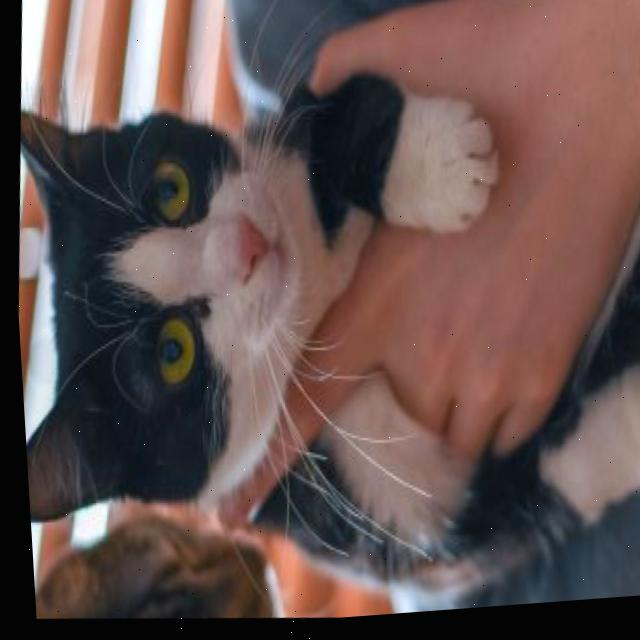Tuxedo: (3, 38, 640, 640)
